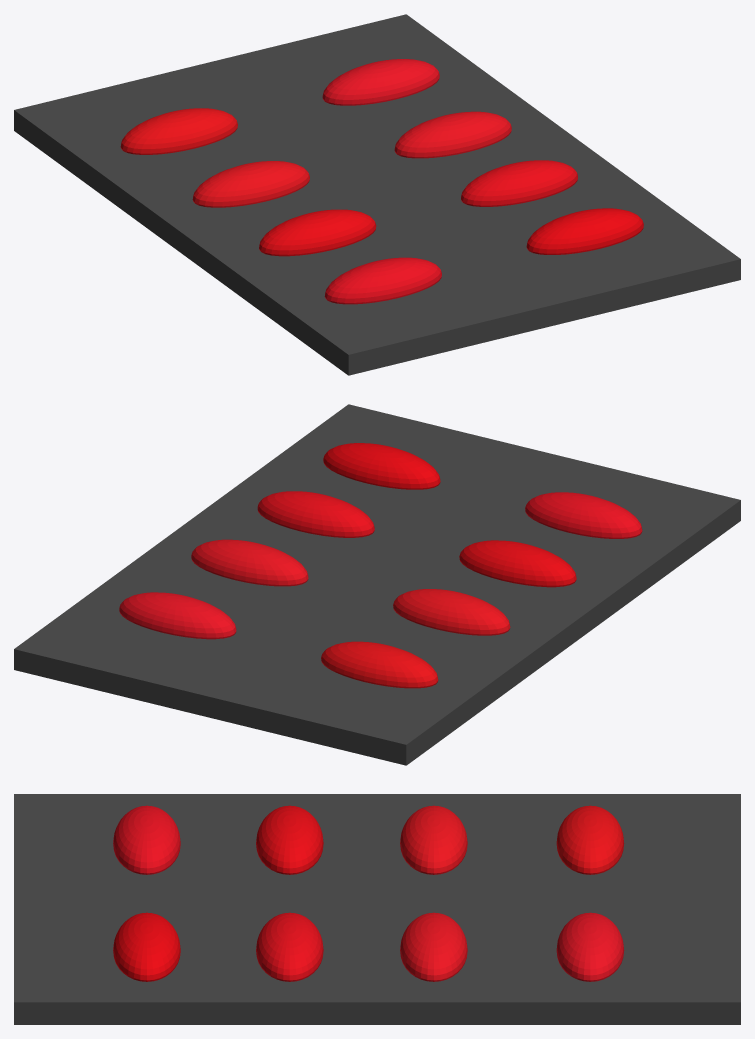
Rendered from Drug2.fbx.
3 renders of one model, top to bottom at view 1: azimuth 30°, elevation 25°; view 2: azimuth 150°, elevation 25°; view 3: azimuth 270°, elevation 25°, orthographic. The views are drawn at different scales.
Parts seen in each view (by area): view 1: Cube, Sphere.003, Sphere.005, Sphere, Sphere.002, Sphere.006, Sphere.001, Sphere.007, Sphere.004; view 2: Cube, Sphere.005, Sphere.006, Sphere.007, Sphere.003, Sphere.002, Sphere, Sphere.001, Sphere.004; view 3: Cube, Sphere.001, Sphere.003, Sphere, Sphere.002, Sphere.004, Sphere.005, Sphere.006, Sphere.007.
Boxes of the visible parts, box(x1,y1,x2,y2) form: Cube: box(14, 14, 740, 375); Sphere.003: box(259, 209, 376, 256); Sphere.005: box(394, 111, 511, 158); Sphere: box(324, 257, 441, 304); Sphere.002: box(461, 160, 577, 206); Sphere.006: box(322, 59, 439, 105); Sphere.001: box(526, 208, 643, 254); Sphere.007: box(120, 108, 237, 154); Sphere.004: box(192, 161, 309, 207); Cube: box(14, 404, 740, 765); Sphere.005: box(191, 539, 308, 586); Sphere.006: box(119, 592, 236, 639); Sphere.007: box(321, 641, 438, 688); Sphere.003: box(459, 540, 576, 587); Sphere.002: box(257, 491, 374, 537); Sphere: box(525, 492, 642, 538); Sphere.001: box(323, 443, 440, 489); Sphere.004: box(393, 589, 510, 635); Cube: box(14, 794, 740, 1024); Sphere.001: box(113, 912, 180, 981); Sphere.003: box(256, 805, 323, 874); Sphere: box(113, 805, 180, 874); Sphere.002: box(256, 912, 323, 981); Sphere.004: box(400, 805, 467, 874); Sphere.005: box(400, 912, 467, 981); Sphere.006: box(556, 912, 624, 981); Sphere.007: box(556, 805, 624, 874).
Size of the model in its own units: 12.03 by 1.27 by 17.76.
